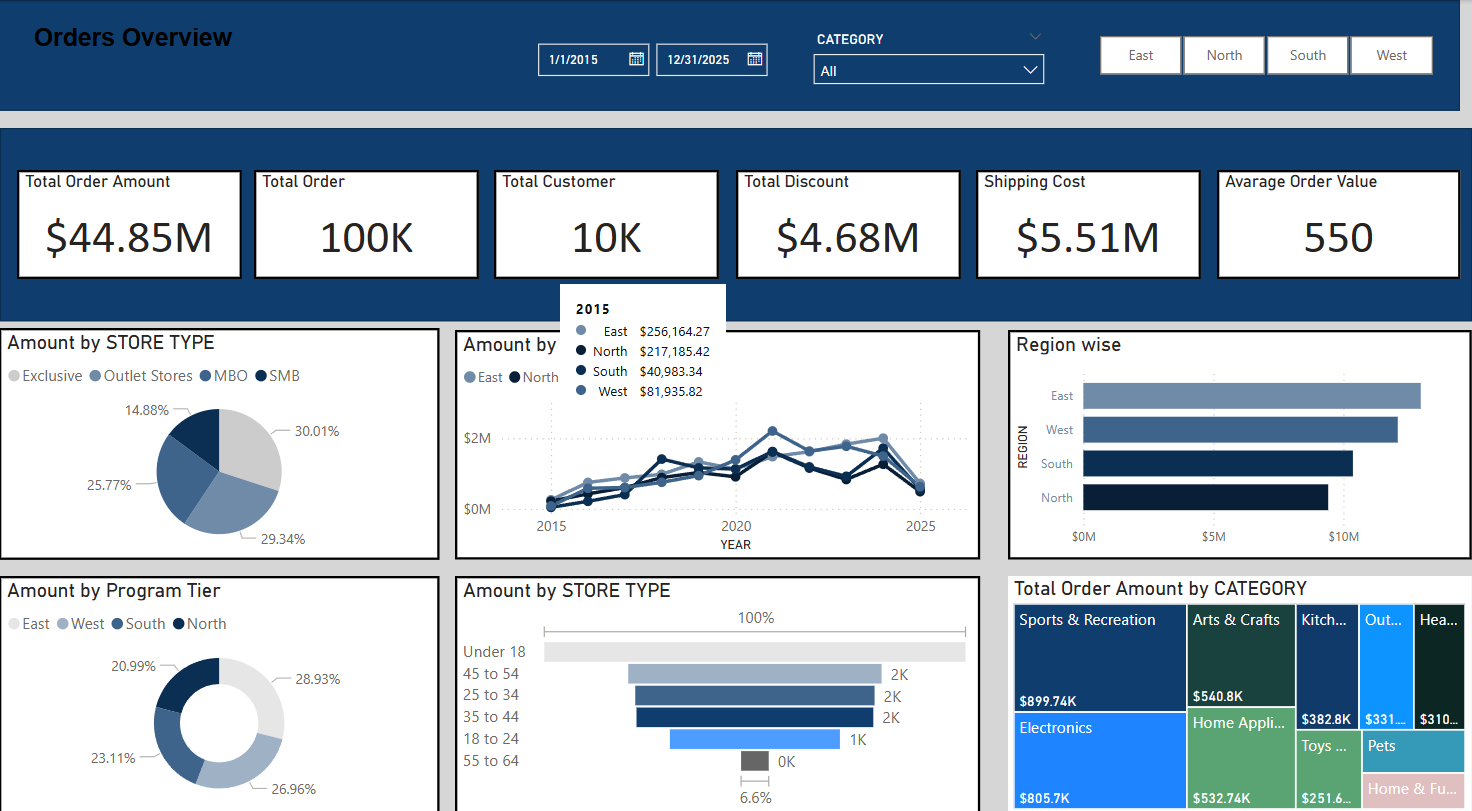

The dashboard page shown, as its layout file describes it:
{"tool":"powerbi","page":{"name":"Page 1","canvas":[1280,720],"ordinal":0},"visuals":[{"type":"shape","box":[9,0,1261.1,95.5],"z":0},{"type":"textbox","box":[34.8,15.9,194.2,63.8],"z":1000},{"type":"shape","box":[10.1,110.2,1269.9,166.7],"z":2000},{"type":"card","title":"Total Order Amount","fields":{"Values":["FACTORDERS.Total Order Amount"]},"box":[24.6,146.4,194.2,94.2],"z":3000},{"type":"card","title":"Total Order","fields":{"Values":["FACTORDERS.Total Orders"]},"box":[229,146.4,194.2,94.2],"z":4000},{"type":"card","title":"Shipping Cost","fields":{"Values":["FACTORDERS.Total Shipping Cost"]},"box":[852.4,146.4,194.2,94.2],"z":5000},{"type":"card","title":"Total Customer","fields":{"Values":["FACTORDERS.Total Customers"]},"box":[436.3,146.4,194.2,94.2],"z":6000},{"type":"card","title":"Total Discount","fields":{"Values":["FACTORDERS.Total Discount Given"]},"box":[645.1,146.4,194.2,94.2],"z":7000},{"type":"card","title":"Avarage Order Value","fields":{"Values":["FACTORDERS.Avarage Order Value"]},"box":[1059.7,146.4,210.2,94.2],"z":8000},{"type":"pieChart","title":"Amount by STORE TYPE","fields":{"Category":["DIMSTORE.STORETYPE"],"Y":["FACTORDERS.Total Order Amount"]},"box":[9.4,282.9,379.8,200],"z":9000},{"type":"lineChart","title":"Amount by STORE TYPE","fields":{"Y":["FACTORDERS.Total Order Amount"],"Category":["DIMDATE.YEAR"],"Series":["DIMSTORE.REGION"]},"box":[403.2,284.4,453.2,198.5],"z":10000},{"type":"barChart","title":"Region wise","fields":{"Category":["DIMSTORE.REGION","DIMCUSTOMER.Age Group"],"Y":["FACTORDERS.Total Order Amount"]},"box":[879.9,284.4,400.1,198.5],"z":11000},{"type":"donutChart","title":"Amount by Program Tier","fields":{"Y":["FACTORDERS.Total Order Amount"],"Category":["DIMSTORE.REGION"]},"box":[9.4,497,379.8,206.3],"z":12000},{"type":"funnel","title":"Amount by STORE TYPE","fields":{"Category":["DIMCUSTOMER.Age Group"],"Y":["FACTORDERS.Total Customers"]},"box":[402.9,496.7,453.4,206.4],"z":13000},{"type":"treemap","fields":{"Group":["DIMPRODUCT.CATEGORY"],"Values":["FACTORDERS.Total Order Amount"]},"box":[879.8,496.7,400.2,206.4],"z":13001},{"type":"slicer","fields":{"Values":["DIMSTORE.REGION"]},"box":[933.6,24,336.6,46.8],"z":13002},{"type":"slicer","fields":{"Values":["DIMPRODUCT.CATEGORY"]},"box":[702.2,21.6,219,58.6],"z":13003},{"type":"slicer","fields":{"Values":["DIMDATE.DATE"]},"box":[461.5,27.9,222.6,46],"z":13004}]}

Visuals, with their boxes in screenshot pixels (x1, y1, x2, y2), scaled from the page's 1280x720 canvas onto the 1472x811 screenshot:
shape: [10, 0, 1461, 108]
textbox: [40, 18, 263, 90]
shape: [12, 124, 1471, 312]
"Total Order Amount" card: [28, 165, 252, 271]
"Total Order" card: [263, 165, 487, 271]
"Shipping Cost" card: [980, 165, 1204, 271]
"Total Customer" card: [502, 165, 725, 271]
"Total Discount" card: [742, 165, 965, 271]
"Avarage Order Value" card: [1219, 165, 1460, 271]
"Amount by STORE TYPE" pieChart: [11, 319, 448, 544]
"Amount by STORE TYPE" lineChart: [464, 320, 985, 544]
"Region wise" barChart: [1012, 320, 1471, 544]
"Amount by Program Tier" donutChart: [11, 560, 448, 792]
"Amount by STORE TYPE" funnel: [463, 559, 985, 792]
treemap - DIMPRODUCT.CATEGORY x FACTORDERS.Total Order Amount: [1012, 559, 1471, 792]
slicer - DIMSTORE.REGION: [1074, 27, 1461, 80]
slicer - DIMPRODUCT.CATEGORY: [808, 24, 1059, 90]
slicer - DIMDATE.DATE: [531, 31, 787, 83]
